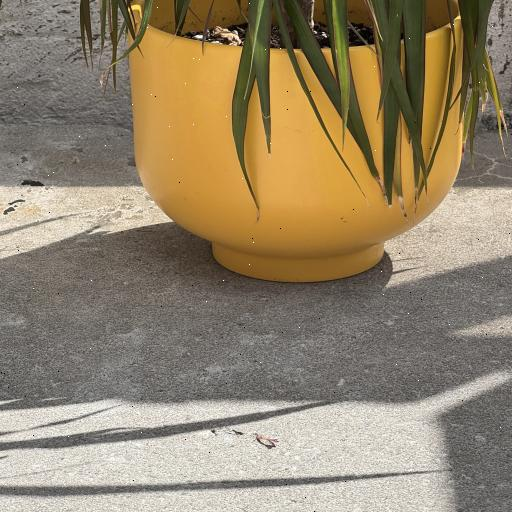Plant Pot: (130, 0, 467, 283)
